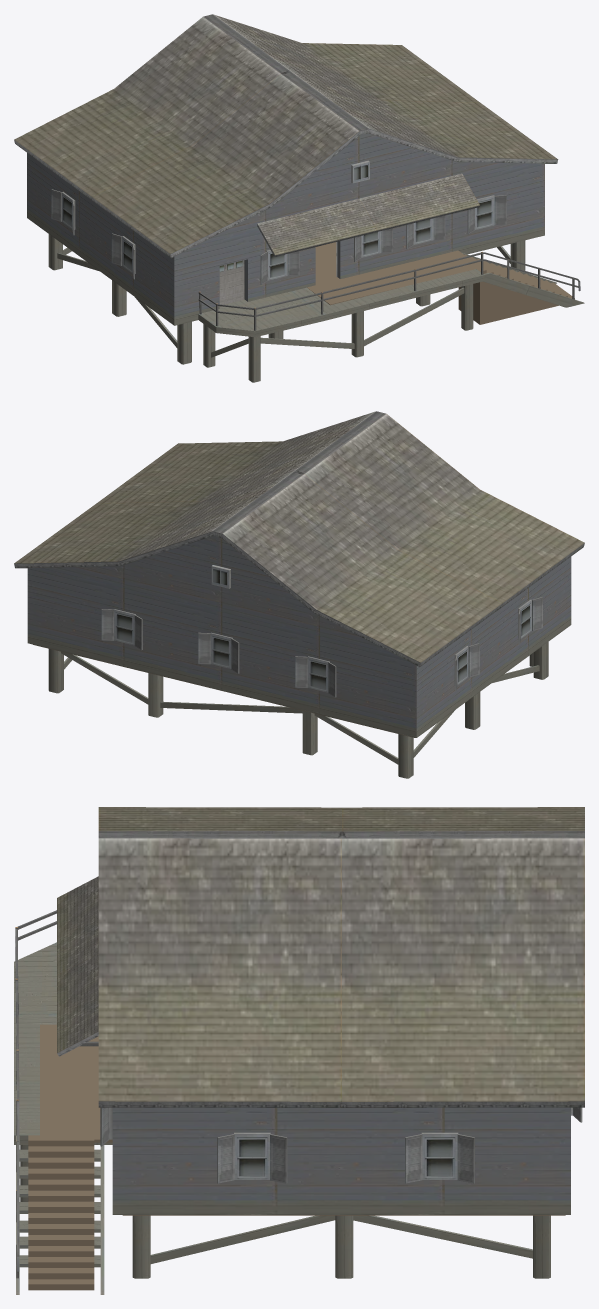
File: rural-wood-1.access-v3.lod0.glb
3 views of the same model, one above another, from view 1: azimuth 30°, elevation 25°; view 2: azimuth 150°, elevation 25°; view 3: azimuth 270°, elevation 25° (orthographic). The views are drawn at different scales.
Parts seen in each view (by area): view 1: Rural_WoodenBuilding_1_Rural_Housetrim_1_0, Rural_WoodenBuilding_1_Rural_Walltrim_1_0, Walkable floors and stairs; view 2: Rural_WoodenBuilding_1_Rural_Housetrim_1_0, Rural_WoodenBuilding_1_Rural_Walltrim_1_0; view 3: Rural_WoodenBuilding_1_Rural_Housetrim_1_0, Rural_WoodenBuilding_1_Rural_Walltrim_1_0, Walkable floors and stairs.
Part boxes in pixels (<box>): Rural_WoodenBuilding_1_Rural_Housetrim_1_0: <box>14,14,580,330</box>; Rural_WoodenBuilding_1_Rural_Walltrim_1_0: <box>27,133,584,382</box>; Walkable floors and stairs: <box>307,242,574,324</box>; Rural_WoodenBuilding_1_Rural_Housetrim_1_0: <box>14,411,584,697</box>; Rural_WoodenBuilding_1_Rural_Walltrim_1_0: <box>27,536,571,778</box>; Rural_WoodenBuilding_1_Rural_Housetrim_1_0: <box>15,807,584,1278</box>; Rural_WoodenBuilding_1_Rural_Walltrim_1_0: <box>14,942,570,1294</box>; Walkable floors and stairs: <box>28,1024,565,1290</box>.
Size of the model in its own units: 21.07 by 10.44 by 17.27.
Materials: 3 (2 with a texture image).
